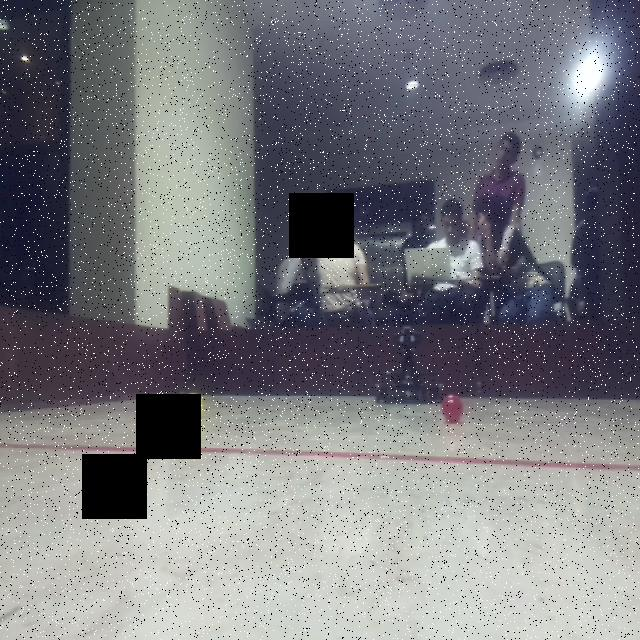ball: (178, 388, 208, 420), (439, 389, 466, 423)
